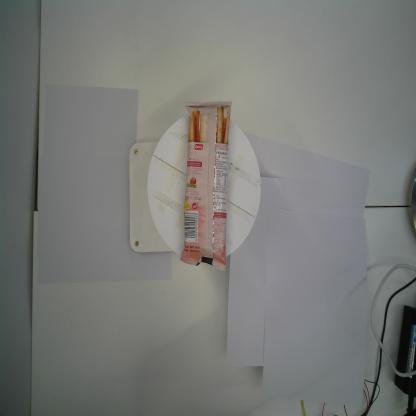Dessert: (179, 101, 232, 273)
